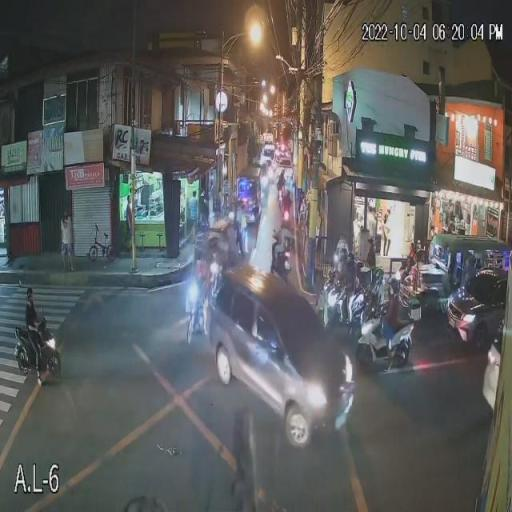helmet: (388, 280, 398, 298), (25, 289, 36, 305), (344, 254, 355, 270), (374, 268, 384, 285), (280, 219, 289, 231)
motorcycle: (12, 320, 63, 376), (360, 316, 416, 361), (346, 295, 390, 319), (324, 282, 336, 309)
rider: (386, 281, 399, 337), (24, 294, 37, 337), (374, 267, 382, 300), (280, 224, 288, 255), (344, 256, 353, 280), (285, 192, 290, 206), (278, 180, 281, 189)
